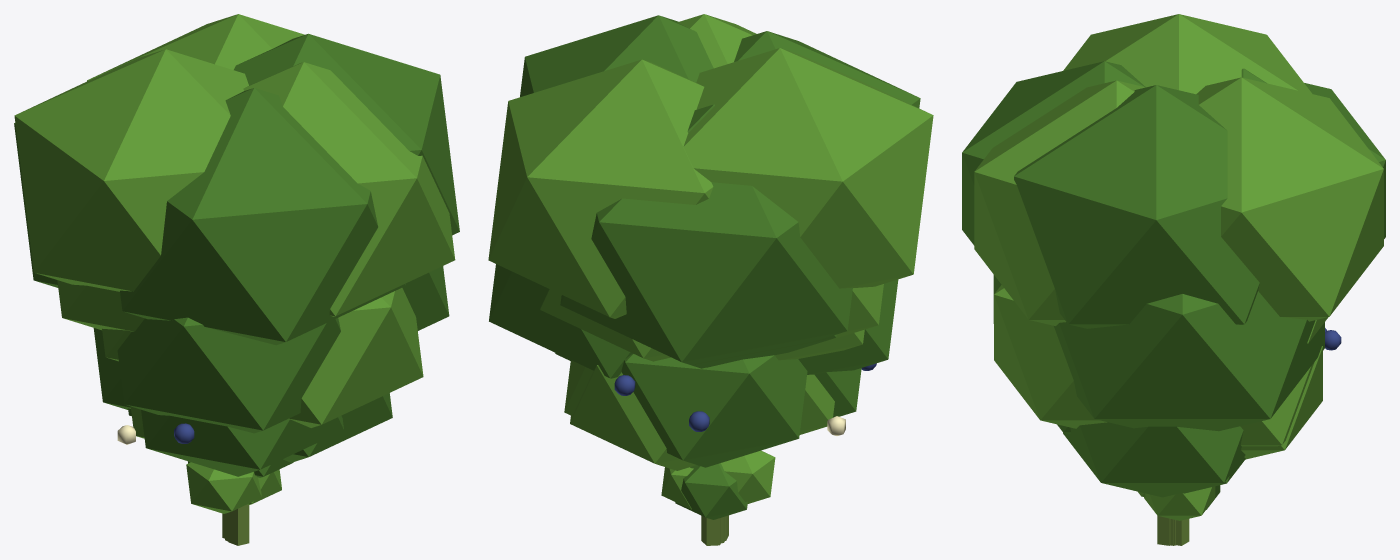
File: Crop_Fruit_Blueberry.fbx
3 views of the same model, side by side, from view 1: azimuth 30°, elevation 25°; view 2: azimuth 150°, elevation 25°; view 3: azimuth 270°, elevation 25° (orthographic). The views are drawn at different scales.
Visible parts, largest first — view 1: Crop_Fruit_Blueberry__S4, Crop_Fruit_Blueberry__S3, Crop_Fruit_Blueberry__S5, Crop_Fruit_Blueberry__S1; view 2: Crop_Fruit_Blueberry__S4, Crop_Fruit_Blueberry__S5, Crop_Fruit_Blueberry__S3, Crop_Fruit_Blueberry__S1, Crop_Fruit_Blueberry__S2; view 3: Crop_Fruit_Blueberry__S4, Crop_Fruit_Blueberry__S5, Crop_Fruit_Blueberry__S3, Crop_Fruit_Blueberry__S1.
Part boxes in pixels (bbox=[...]): Crop_Fruit_Blueberry__S4: bbox=[14, 14, 459, 538]; Crop_Fruit_Blueberry__S3: bbox=[57, 280, 423, 444]; Crop_Fruit_Blueberry__S5: bbox=[93, 328, 392, 540]; Crop_Fruit_Blueberry__S1: bbox=[186, 459, 293, 545]; Crop_Fruit_Blueberry__S4: bbox=[488, 14, 933, 545]; Crop_Fruit_Blueberry__S5: bbox=[555, 329, 864, 543]; Crop_Fruit_Blueberry__S3: bbox=[540, 279, 898, 435]; Crop_Fruit_Blueberry__S1: bbox=[661, 450, 775, 540]; Crop_Fruit_Blueberry__S2: bbox=[724, 374, 834, 542]; Crop_Fruit_Blueberry__S4: bbox=[962, 14, 1385, 545]; Crop_Fruit_Blueberry__S5: bbox=[1057, 346, 1322, 545]; Crop_Fruit_Blueberry__S3: bbox=[993, 275, 1328, 545]; Crop_Fruit_Blueberry__S1: bbox=[1138, 485, 1220, 545].
Bounding box in the file's own units: 0.2077 × 0.2514 × 0.1949.
